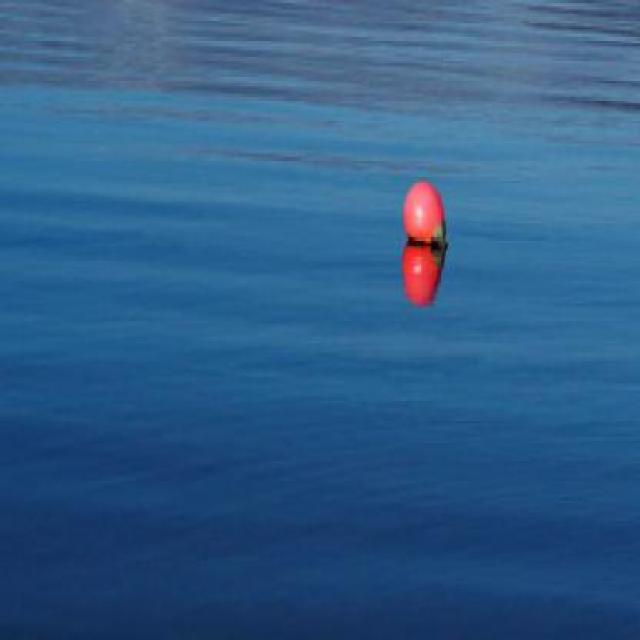a: (391, 161, 457, 264)
